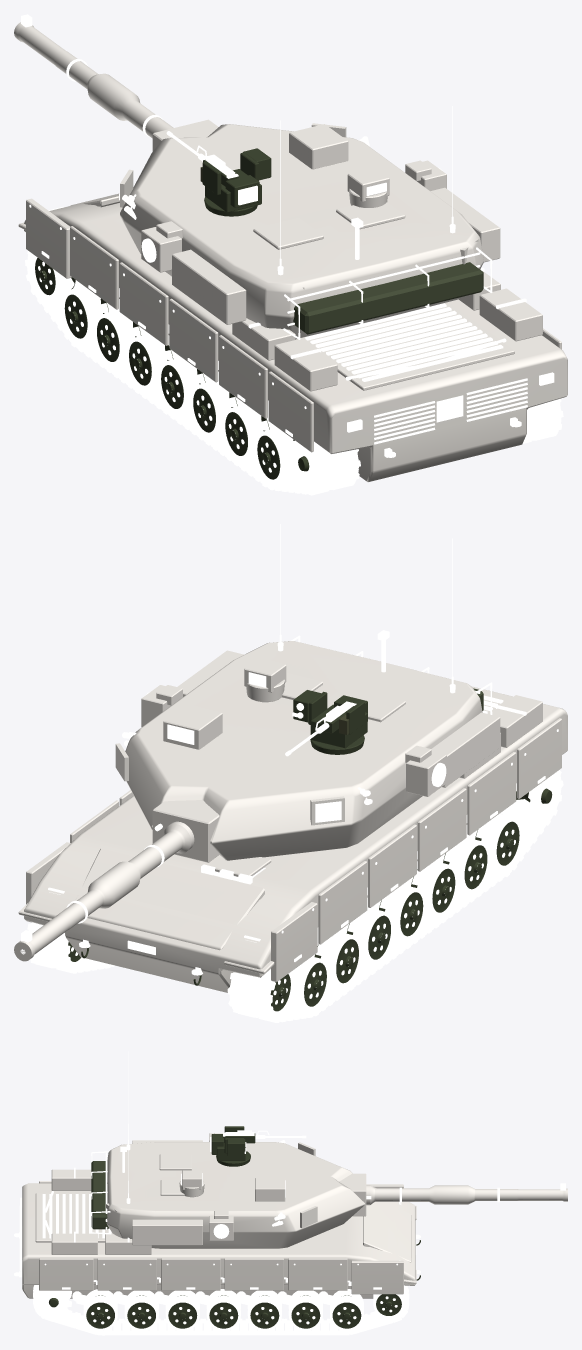
File: leopard_2a8_nor.glb
The picture shows the model from 3 angles, top to bottom: view 1: azimuth 30°, elevation 25°; view 2: azimuth 150°, elevation 25°; view 3: azimuth 270°, elevation 25°; orthographic projection. The views are drawn at different scales.
Parts seen in each view (by area): view 1: Body_LOD0, Turret_LOD0, Track_L_LOD0, Gun_LOD0, RWS_LOD0, RoadWheel_L3_LOD0, RoadWheel_L6_LOD0, RoadWheel_L1_LOD0, RoadWheel_L7_LOD0, RoadWheel_L5_LOD0, RoadWheel_L4_LOD0, RoadWheel_L2_LOD0 (+6 smaller); view 2: Turret_LOD0, Body_LOD0, Gun_LOD0, Track_L_LOD0, RWS_LOD0, RoadWheel_L3_LOD0, RoadWheel_L5_LOD0, RoadWheel_L7_LOD0, RoadWheel_L4_LOD0, RoadWheel_L6_LOD0, RoadWheel_L2_LOD0, RoadWheel_L1_LOD0 (+7 smaller); view 3: Body_LOD0, Turret_LOD0, Track_R_LOD0, Gun_LOD0, RoadWheel_R4_LOD0, RoadWheel_R7_LOD0, RoadWheel_R5_LOD0, RoadWheel_R6_LOD0, RoadWheel_R2_LOD0, RoadWheel_R3_LOD0, RoadWheel_R1_LOD0, RWS_LOD0 (+4 smaller).
Boxes of the visible parts, x1,y1,x2,y2 form: Body_LOD0: [18, 193, 567, 482]; Turret_LOD0: [120, 106, 500, 339]; Track_L_LOD0: [25, 251, 360, 495]; Gun_LOD0: [14, 14, 218, 151]; RWS_LOD0: [202, 152, 261, 216]; RoadWheel_L3_LOD0: [127, 334, 177, 389]; RoadWheel_L6_LOD0: [223, 404, 274, 459]; RoadWheel_L1_LOD0: [63, 287, 119, 342]; RoadWheel_L7_LOD0: [255, 428, 294, 482]; RoadWheel_L5_LOD0: [191, 380, 241, 436]; RoadWheel_L4_LOD0: [159, 357, 218, 412]; RoadWheel_L2_LOD0: [95, 310, 145, 365]; Turret_LOD0: [115, 524, 500, 860]; Body_LOD0: [18, 686, 567, 992]; Gun_LOD0: [14, 800, 219, 961]; Track_L_LOD0: [227, 770, 563, 1022]; RWS_LOD0: [308, 691, 367, 754]; RoadWheel_L3_LOD0: [341, 908, 392, 963]; RoadWheel_L5_LOD0: [405, 861, 456, 916]; RoadWheel_L7_LOD0: [466, 814, 521, 869]; RoadWheel_L4_LOD0: [367, 884, 424, 939]; RoadWheel_L6_LOD0: [437, 837, 488, 893]; RoadWheel_L2_LOD0: [312, 931, 360, 986]; RoadWheel_L1_LOD0: [289, 956, 328, 1010]; Body_LOD0: [14, 1167, 420, 1304]; Turret_LOD0: [91, 1051, 364, 1248]; Track_R_LOD0: [33, 1277, 409, 1335]; Gun_LOD0: [339, 1173, 567, 1216]; RoadWheel_R4_LOD0: [206, 1289, 240, 1330]; RoadWheel_R7_LOD0: [83, 1289, 117, 1330]; RoadWheel_R5_LOD0: [165, 1290, 199, 1330]; RoadWheel_R6_LOD0: [124, 1290, 158, 1330]; RoadWheel_R2_LOD0: [288, 1290, 322, 1330]; RoadWheel_R3_LOD0: [247, 1290, 281, 1330]; RoadWheel_R1_LOD0: [330, 1289, 363, 1330]; RWS_LOD0: [210, 1126, 250, 1166].
Size of what is drawn, in the model's own units: 4.42 by 4.96 by 11.34.
